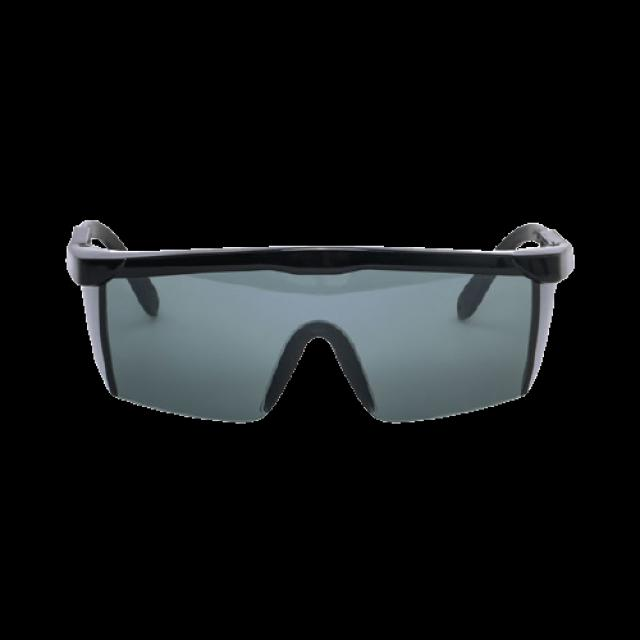Protective Glasses: (11, 162, 626, 510)
